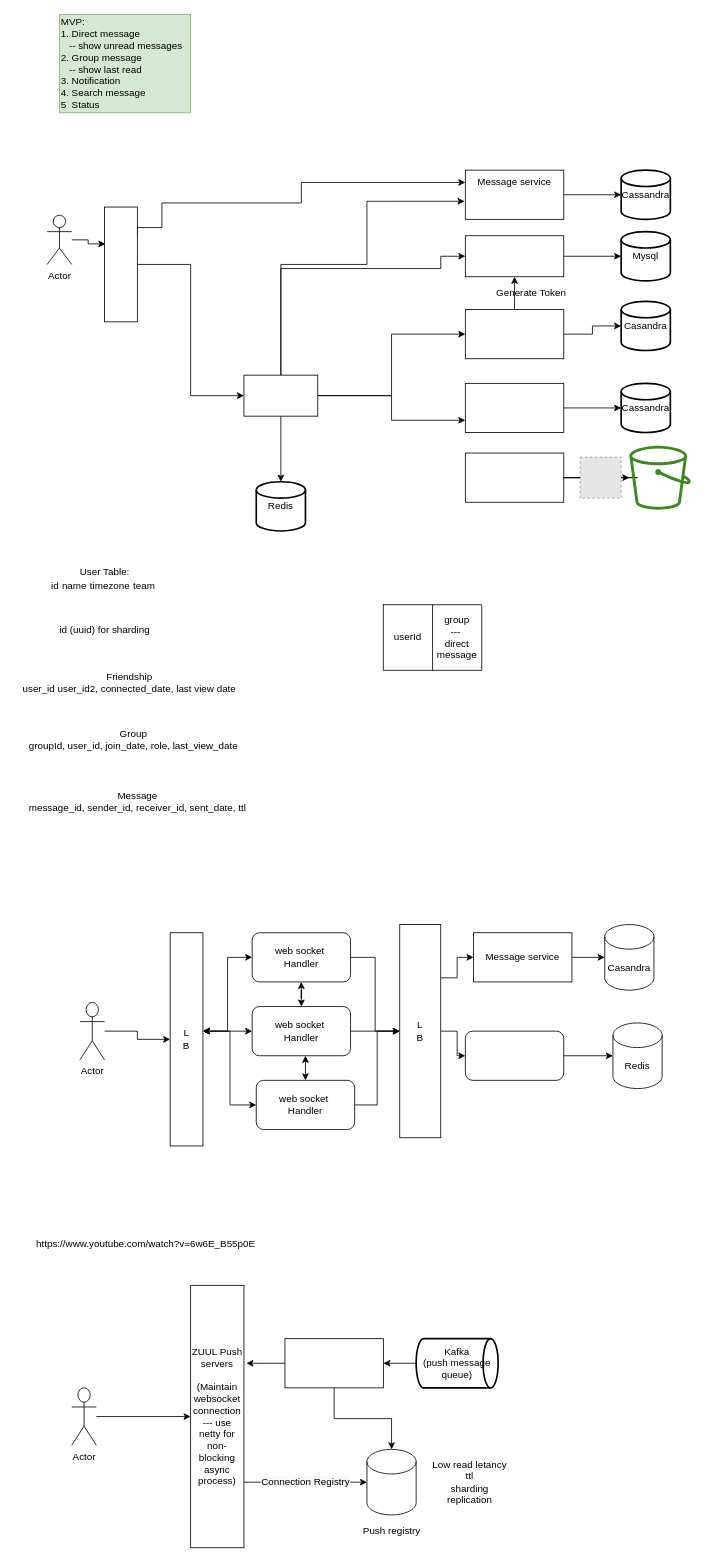
Some shapes in this 704 by 1562 pixel diagram are drawn without their labels. Grey dashed boxes stand in for pictures. Here are the shapes that lost their labels. From the top down, the centre of each, then its label:
At point (120, 264): "API Gateway".
At point (514, 256): "Account Service".
At point (514, 334): "Token (session) service".
At point (280, 395): "Channel Service".
At point (514, 408): "Websocket Service".
At point (514, 477): "Media Service".
At point (514, 1055): "Web Socket Manager".
At point (333, 1363): "Message Processing".
At point (391, 1482): "Redids".
